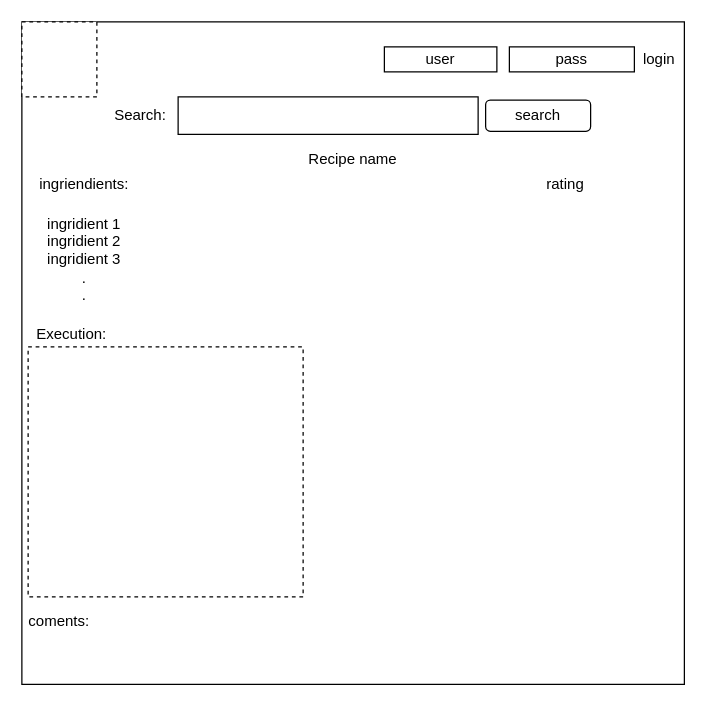
The diagram is 706 pixels wide and 706 high, and some of its shapes have lost their labels. Here are the shapes that lost their labels. From the top down, the centre of each, then its label:
the point at 59,59: Logo
the point at 165,471: execution of recipe
